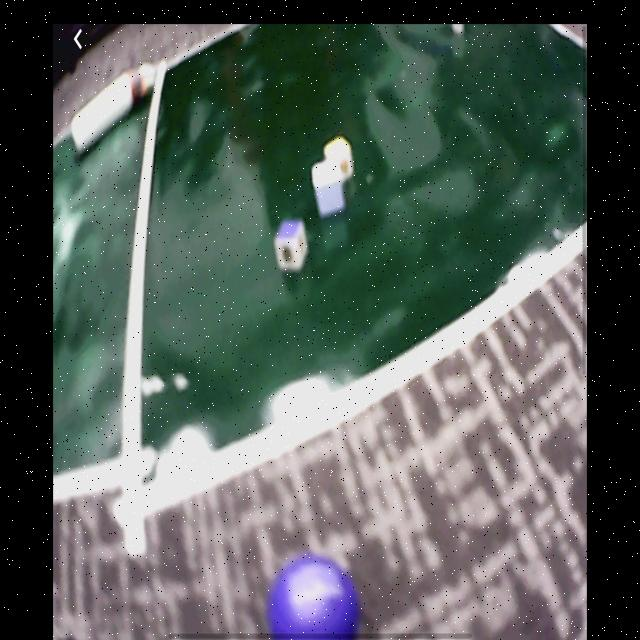ball: (265, 551, 359, 637)
